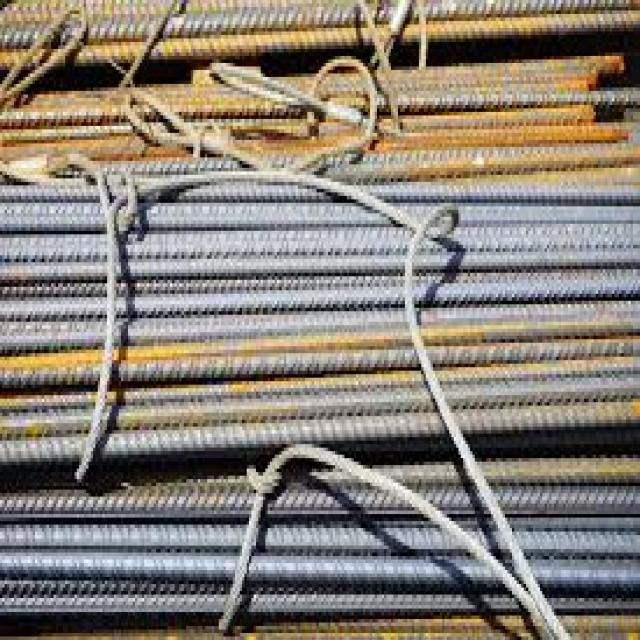Dry: (38, 123, 608, 454)
